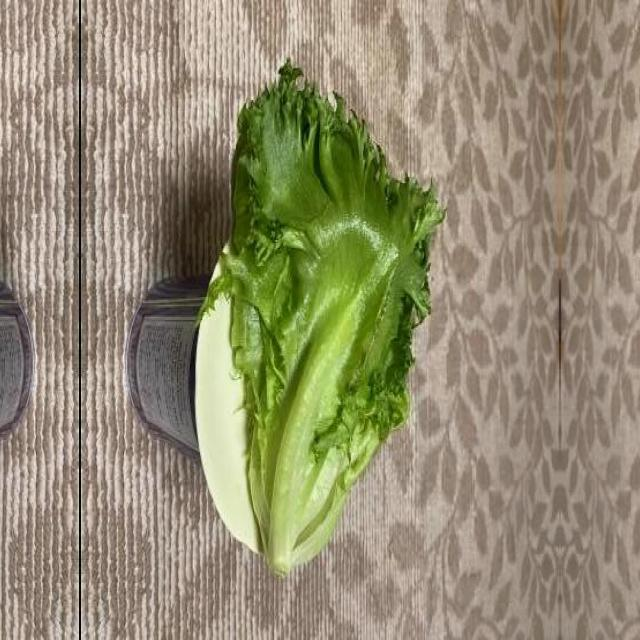healthy: (217, 58, 439, 568)
